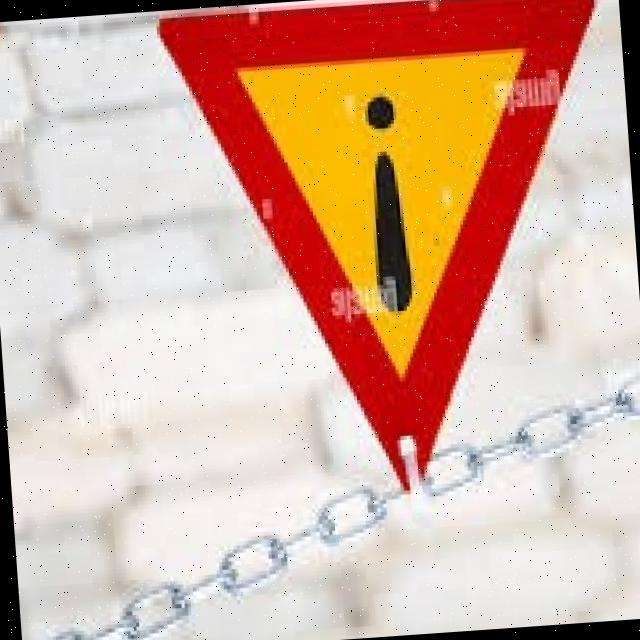warning: (148, 0, 634, 490)
